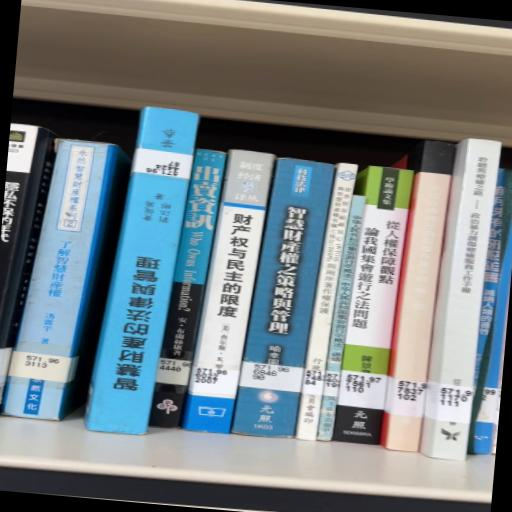book: (3, 140, 130, 421), (232, 159, 335, 438), (183, 151, 276, 434), (421, 140, 502, 461), (333, 167, 414, 446), (382, 143, 455, 452), (150, 150, 228, 429)
reverse: (86, 108, 200, 435)
